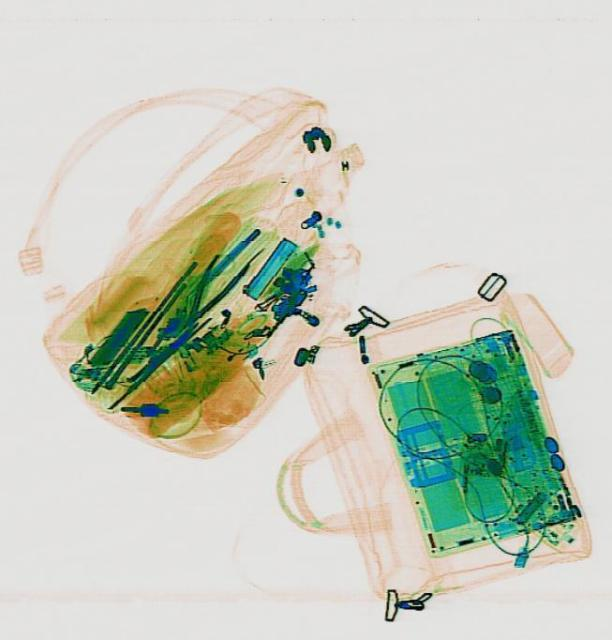Pliers: (161, 244, 250, 340)
